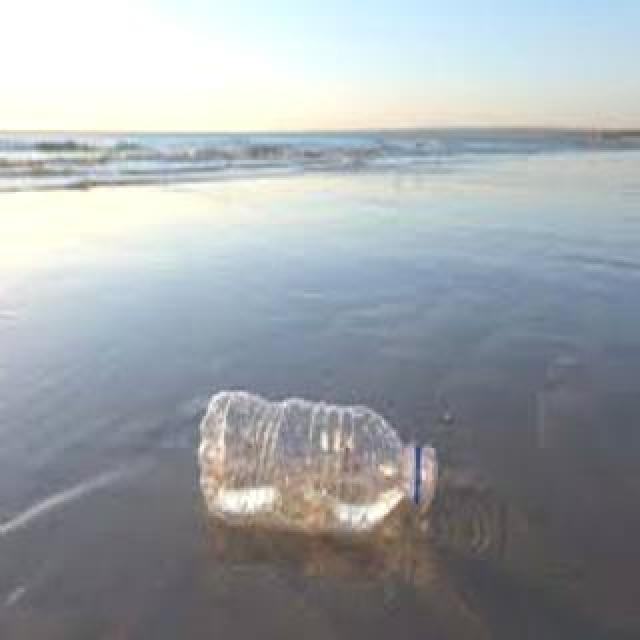Pet_Bottle: (197, 387, 443, 535)
